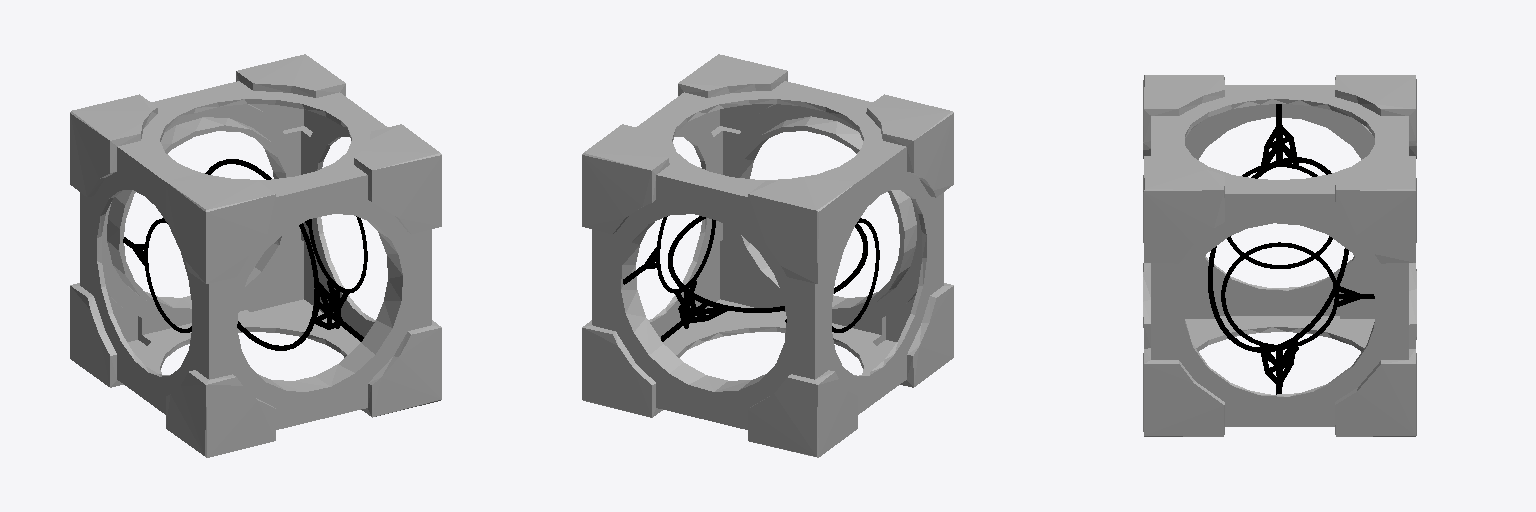
3 views of the same model, side by side, from view 1: azimuth 30°, elevation 25°; view 2: azimuth 150°, elevation 25°; view 3: azimuth 270°, elevation 25° (orthographic).
Visible parts, largest first — view 1: Cube.001_Cube; view 2: Cube.001_Cube; view 3: Cube.001_Cube.
Part boxes in pixels (x1,y1,x2,y2): Cube.001_Cube: (70, 54, 441, 457); Cube.001_Cube: (582, 54, 953, 457); Cube.001_Cube: (1143, 75, 1416, 436).
Size of the model in its own units: 2 by 2 by 2.
Materials: 1 (1 with a texture image).